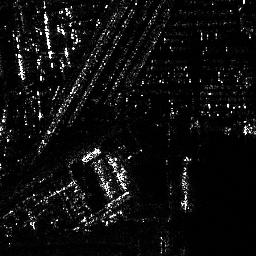ship: (180, 163, 191, 210)
